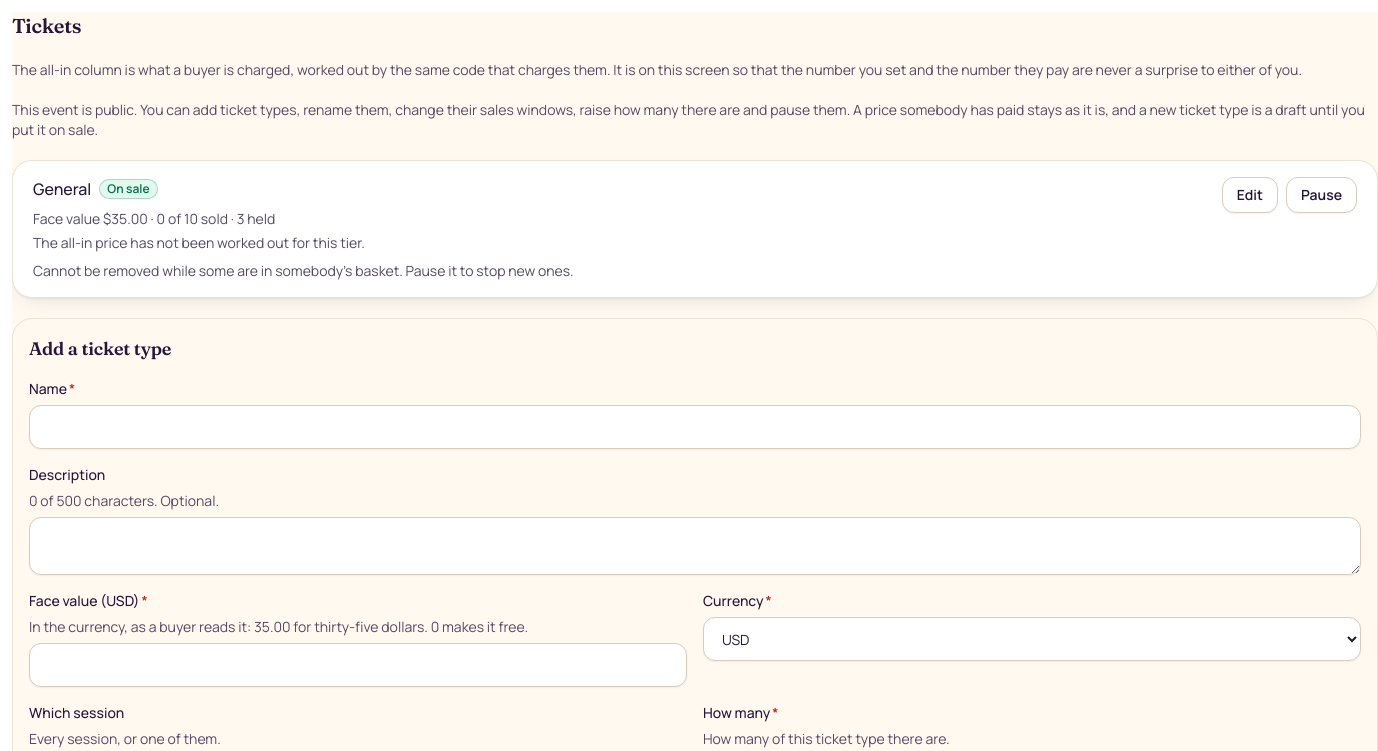
Test case: editing a ticket type › keeps the price while some are in somebody’s basket, and says why
Click the button "Edit": [1250, 195] box [1222, 177, 1278, 213]
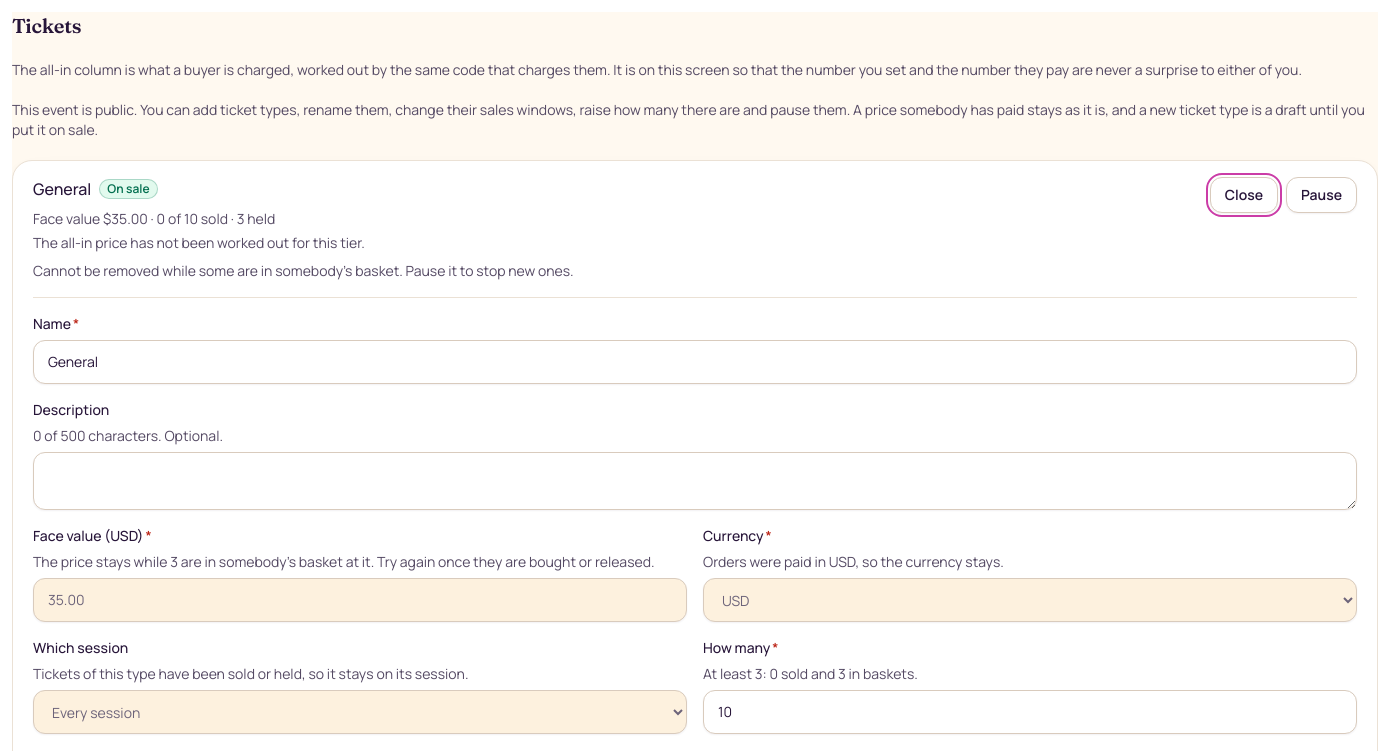
Expected: the field labelled "Face value (USD)*" is disabled, [33, 578, 687, 622]
Expected: the text "The price stays while 3 are in somebody’s basket at it. Try again once they are bought or released." is shown, [33, 552, 654, 571]
